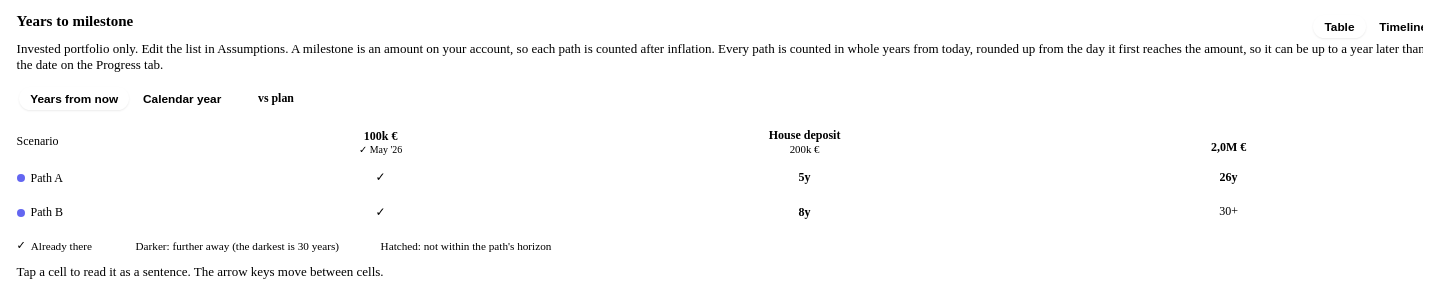
years from now and calendar year › starts as years and switches to the calendar year each path reaches it in
Click the radio button labelled "Calendar year". click: x=182, y=99
box: [132,87,232,110]
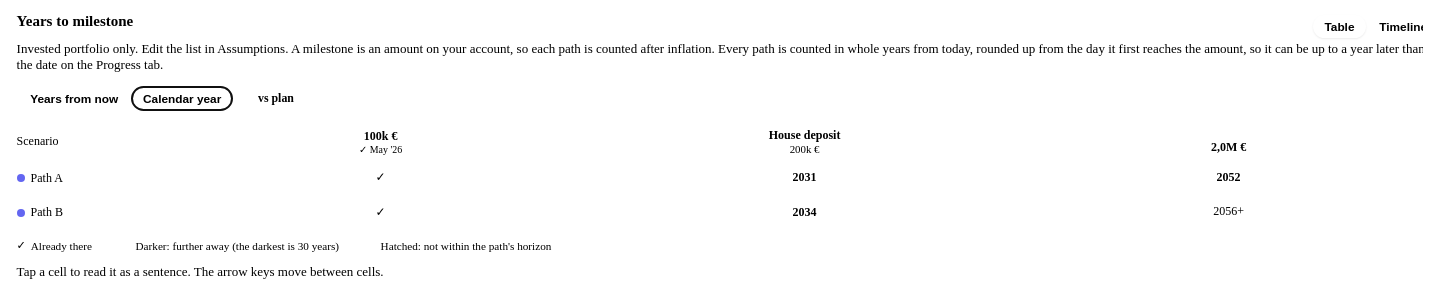
Expected: the cell "✓" next to "Path A" is shown, [376,170,386,184]
Result: the cell "2034" is shown at [593,195,1017,229]
Result: the cell "2056+" is shown at [1017,195,1423,229]
